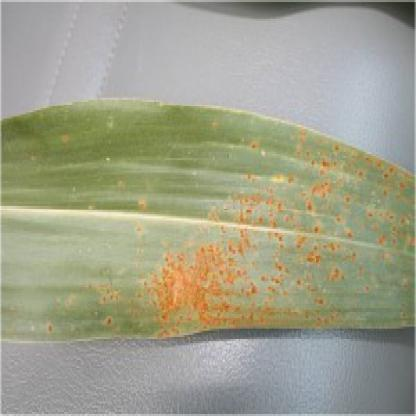corn rust leaf: (1, 77, 415, 362)
